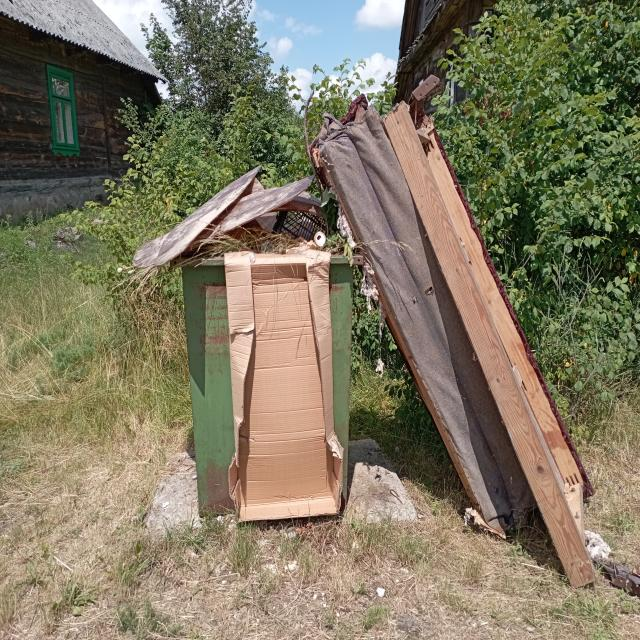bin: (185, 257, 353, 524)
trash: (302, 51, 606, 600), (224, 254, 344, 527), (129, 161, 330, 300)
